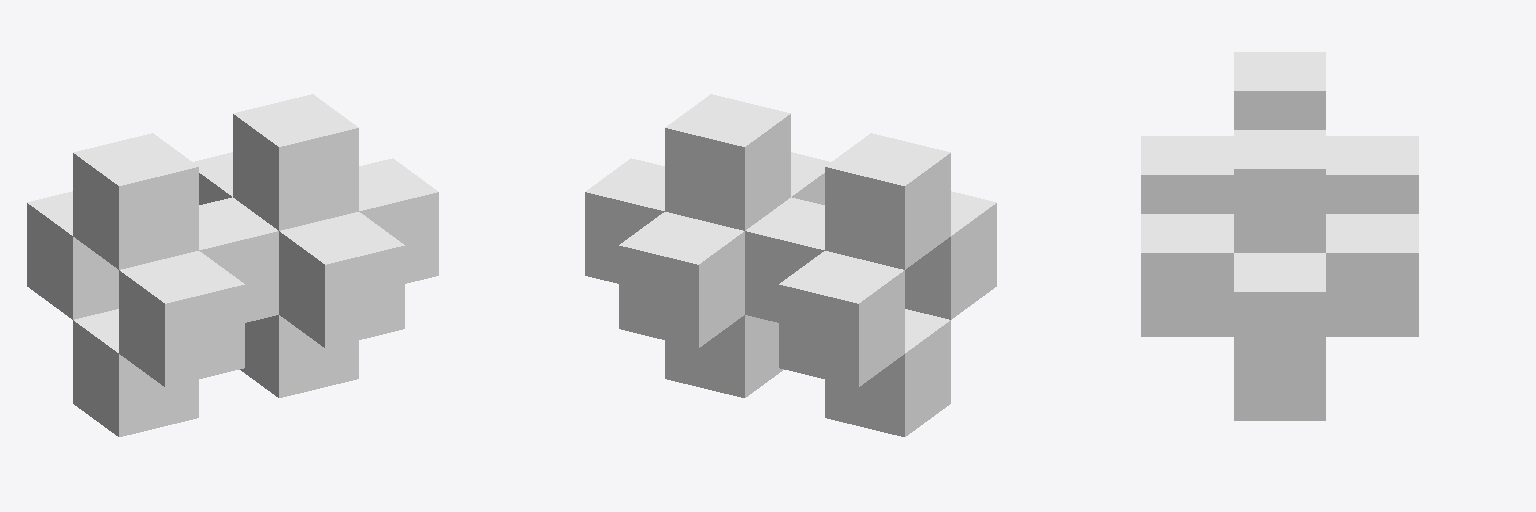
The model's file is arrowModel.obj.
3 renders of one model, left to right at view 1: azimuth 30°, elevation 25°; view 2: azimuth 150°, elevation 25°; view 3: azimuth 270°, elevation 25°, orthographic.
Visible parts, largest first — view 1: object 1; view 2: object 1; view 3: object 1.
Part boxes in pixels (bbox=[...]): object 1: bbox=[27, 94, 438, 436]; object 1: bbox=[585, 94, 996, 436]; object 1: bbox=[1141, 52, 1418, 420].
Bounding box in the file's own units: 0.4 × 0.3 × 0.3.